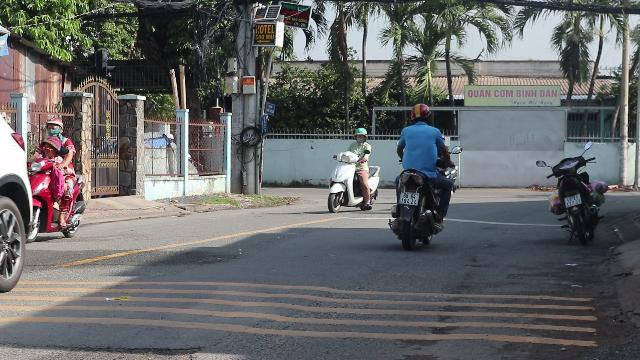helmet: (410, 103, 430, 123), (46, 118, 62, 138), (353, 127, 367, 143)
licenseplate: (399, 191, 418, 205)
motorcyclist: (386, 103, 454, 249), (28, 116, 88, 241), (324, 124, 381, 216)
nohelmet: (39, 137, 61, 157)
